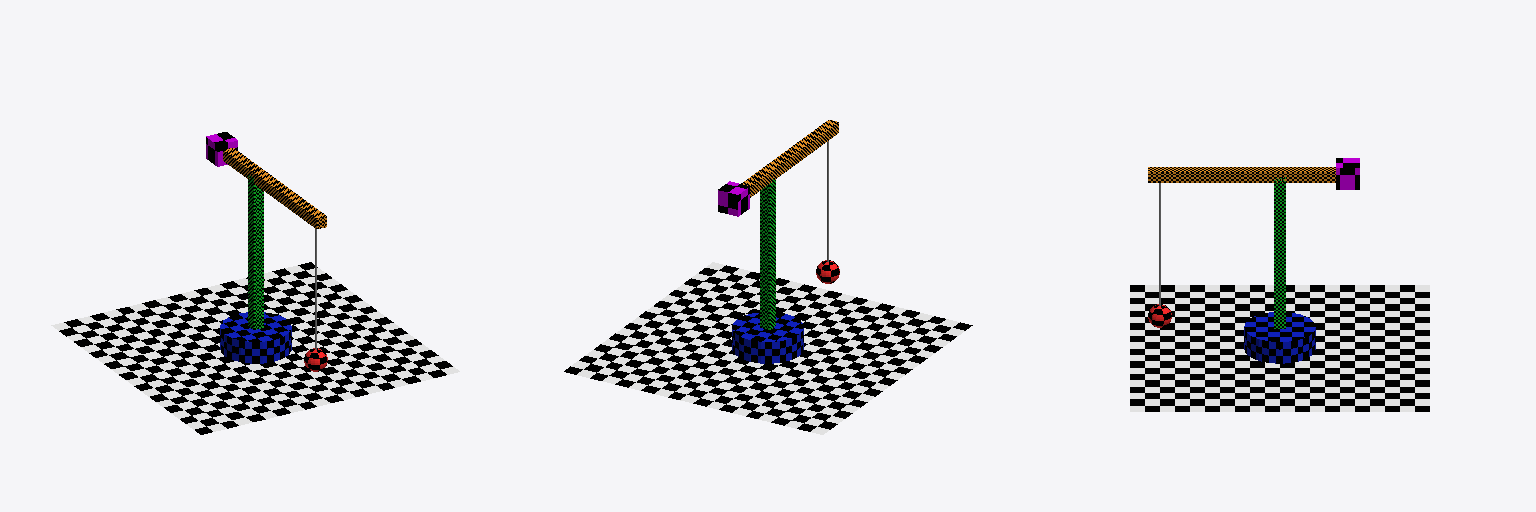
3 views of the same model, side by side, from view 1: azimuth 30°, elevation 25°; view 2: azimuth 150°, elevation 25°; view 3: azimuth 270°, elevation 25° (orthographic).
Visible parts, largest first — view 1: pPlane1, pCylinder2, pCube1, pCube2, pCube3; view 2: pPlane1, pCylinder2, pCube1, pCube2, pCube3; view 3: pPlane1, pCylinder2, pCube2, pCube1, pCube3.
Part boxes in pixels (left/top/right/bottom): pPlane1: left=51, top=262, right=459, bottom=434; pCylinder2: left=220, top=312, right=291, bottom=363; pCube1: left=248, top=174, right=263, bottom=329; pCube2: left=223, top=148, right=326, bottom=228; pCube3: left=206, top=132, right=237, bottom=166; pPlane1: left=564, top=262, right=972, bottom=434; pCylinder2: left=732, top=312, right=803, bottom=363; pCube1: left=760, top=178, right=775, bottom=329; pCube2: left=741, top=120, right=838, bottom=197; pCube3: left=718, top=181, right=749, bottom=216; pPlane1: left=1130, top=285, right=1429, bottom=411; pCylinder2: left=1244, top=312, right=1315, bottom=363; pCube2: left=1148, top=167, right=1335, bottom=182; pCube1: left=1274, top=177, right=1285, bottom=328; pCube3: left=1336, top=158, right=1359, bottom=189.
Size of the model in its own units: 25 by 17.04 by 25.
7 materials, 6 textured.